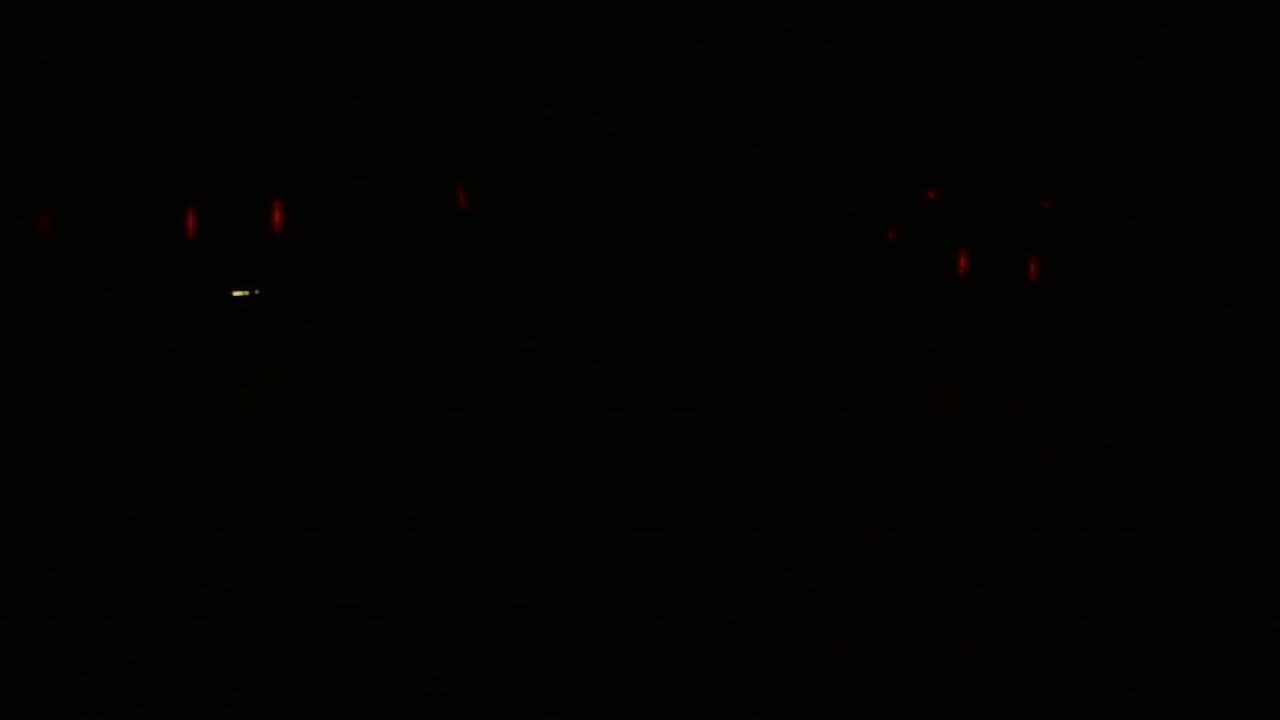pair1: (177, 193, 292, 242), (950, 247, 1041, 285)
